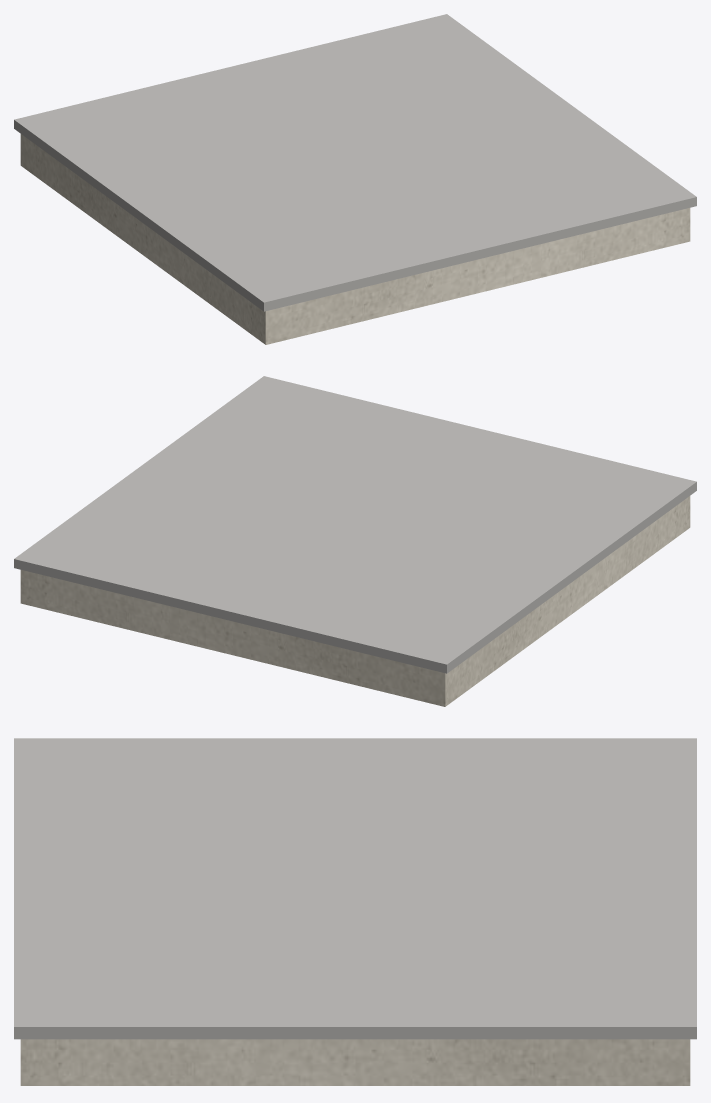
Rendered from roof_tile.glb.
3 renders of one model, top to bottom at view 1: azimuth 30°, elevation 25°; view 2: azimuth 150°, elevation 25°; view 3: azimuth 270°, elevation 25°, orthographic. The views are drawn at different scales.
Parts seen in each view (by area): view 1: roof_tile_roof, roof_tile_plaster; view 2: roof_tile_roof, roof_tile_plaster; view 3: roof_tile_roof, roof_tile_plaster.
Boxes of the visible parts, left/top/right/bottom form: roof_tile_roof: left=14, top=14, right=696, bottom=311; roof_tile_plaster: left=20, top=134, right=690, bottom=344; roof_tile_roof: left=14, top=376, right=696, bottom=673; roof_tile_plaster: left=20, top=496, right=690, bottom=706; roof_tile_roof: left=14, top=738, right=696, bottom=1039; roof_tile_plaster: left=20, top=1039, right=690, bottom=1085.
Bounding box in the file's own units: 2 × 0.2 × 2.
2 materials, 1 textured.
